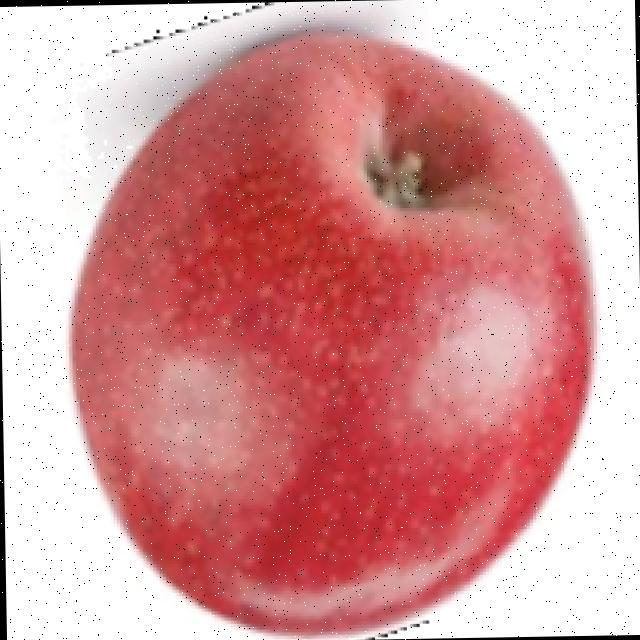apple: (54, 2, 605, 640)
